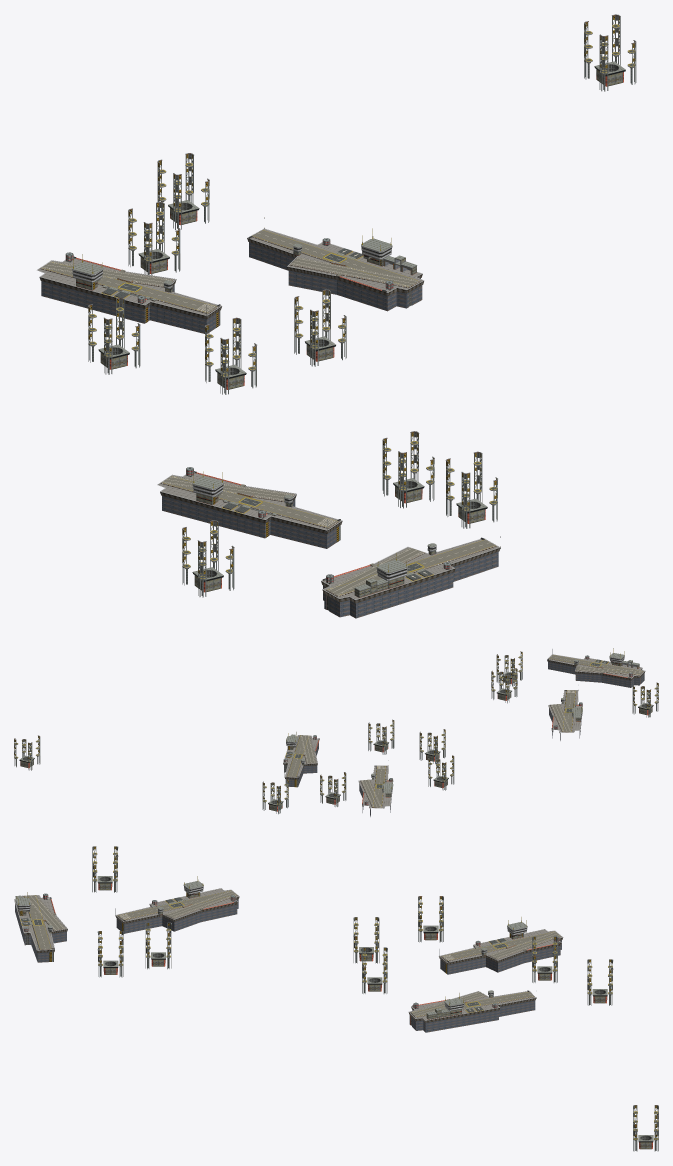
File: Extra.obj
3 views of the same model, one above another, from view 1: azimuth 30°, elevation 25°; view 2: azimuth 150°, elevation 25°; view 3: azimuth 270°, elevation 25° (orthographic). The views are drawn at different scales.
Bounding box in the file's own units: 12202 × 755 × 12327.
Materials: 37 (37 with a texture image).
